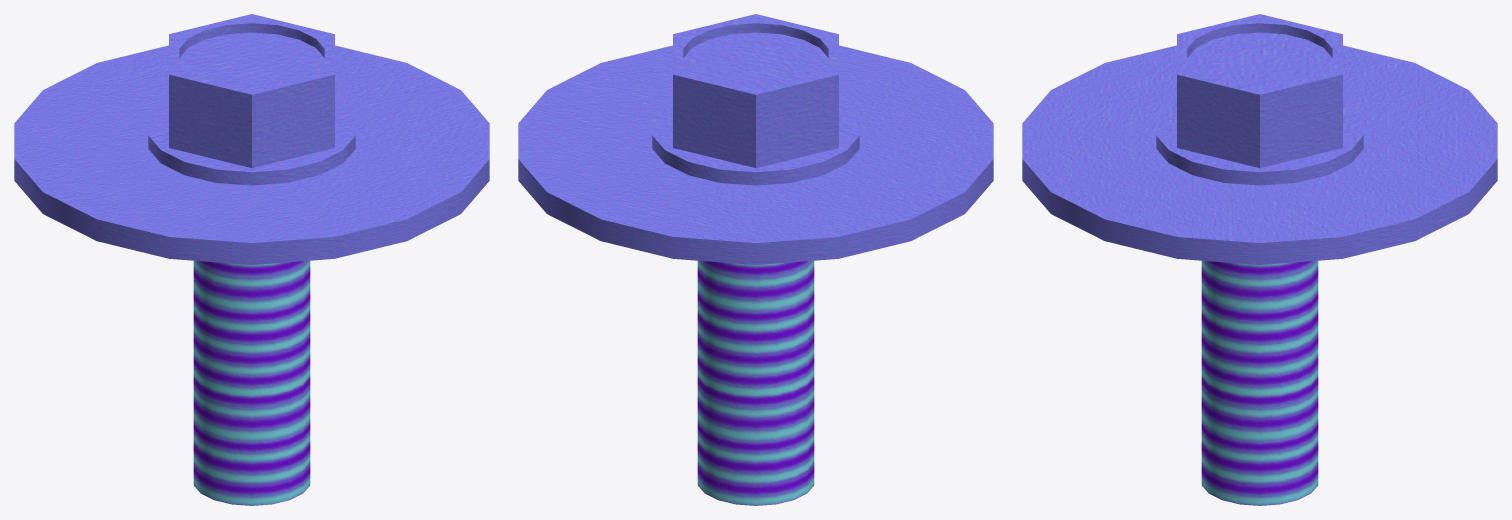
The model's file is f_bumper_b.fbx.
3 renders of one model, left to right at view 1: azimuth 30°, elevation 25°; view 2: azimuth 150°, elevation 25°; view 3: azimuth 270°, elevation 25°, orthographic.
Parts seen in each view (by area): view 1: f_bumper_b_05; view 2: f_bumper_b_05; view 3: f_bumper_b_05.
Part boxes in pixels (left/top/right/bottom): f_bumper_b_05: left=14, top=14, right=489, bottom=505; f_bumper_b_05: left=518, top=14, right=993, bottom=505; f_bumper_b_05: left=1022, top=14, right=1497, bottom=505.
Bounding box in the file's own units: 2.52 × 2.46 × 2.48.
